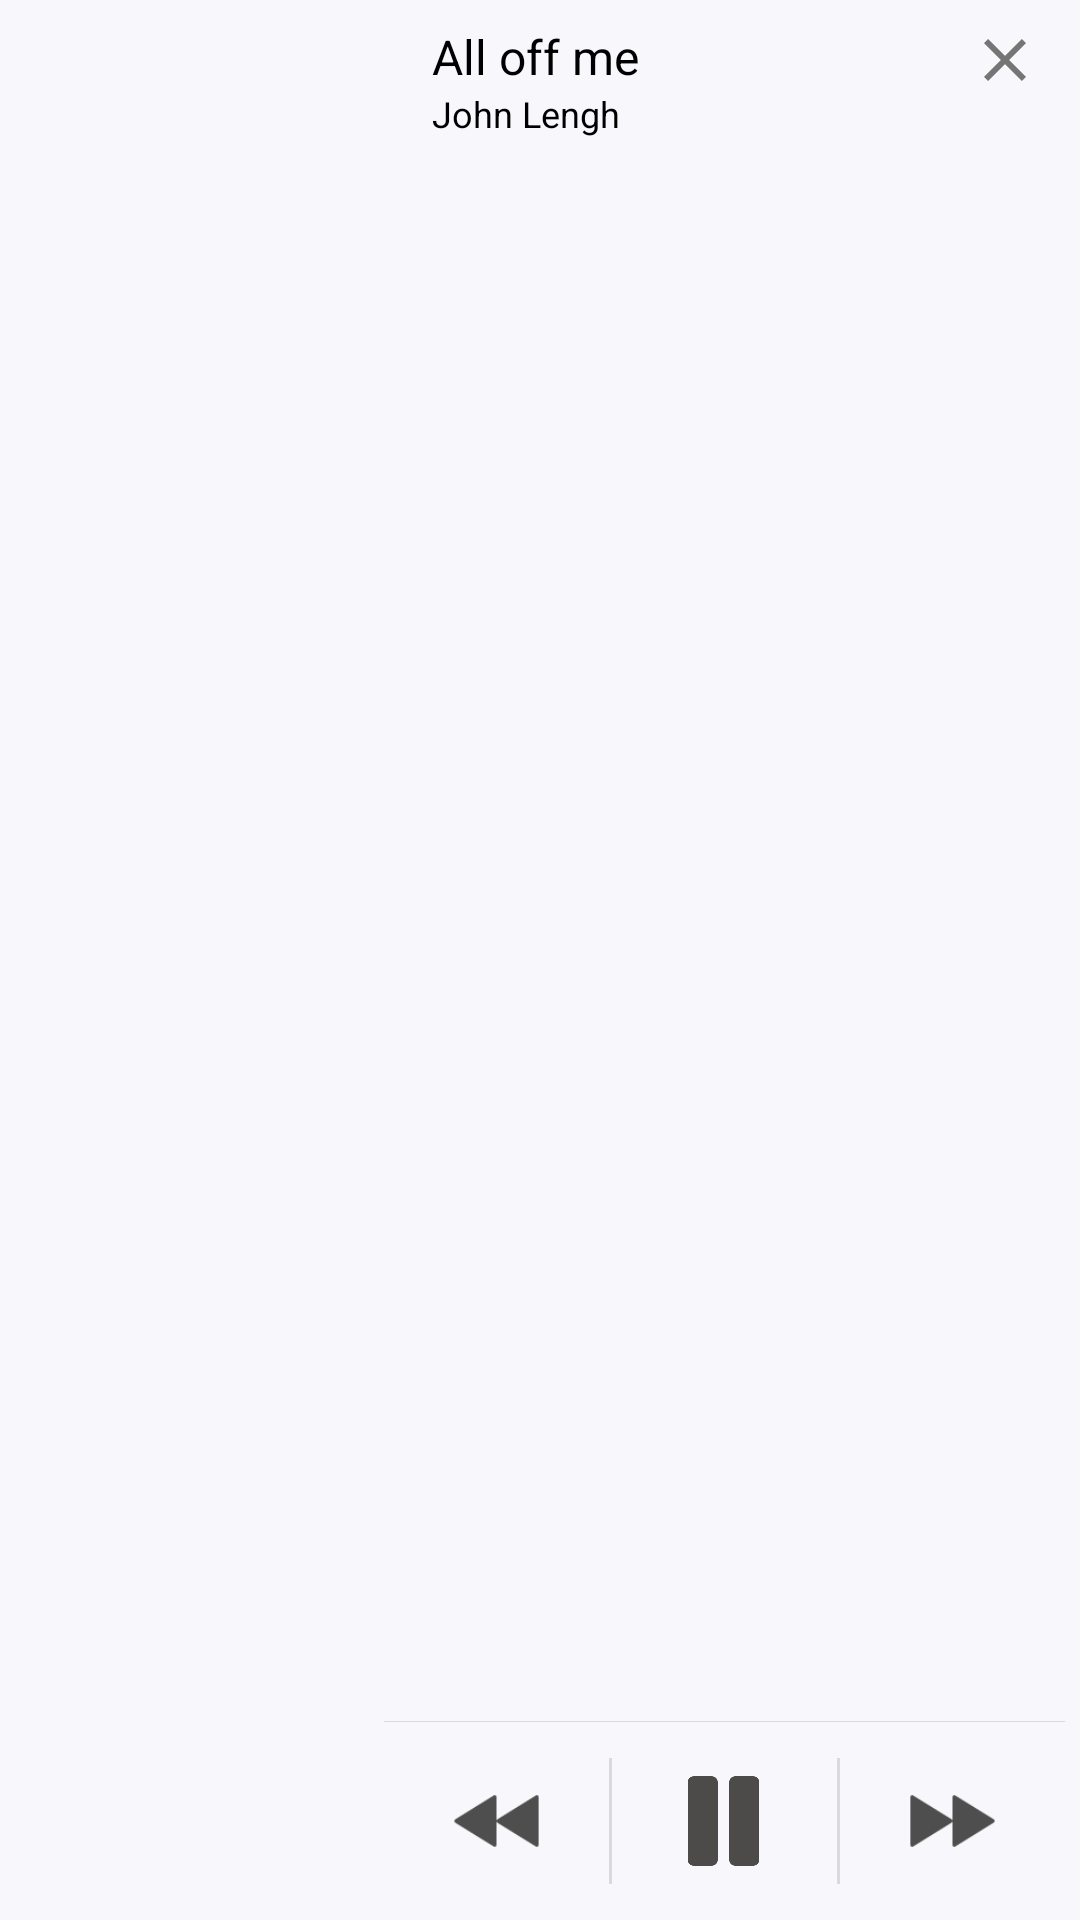

Locate icon controls on the screen. Image size 1080px×1920px, boxes as bbox=[x1, y1, x2, y2].
back: bbox=[454, 1795, 539, 1847]
close: bbox=[984, 39, 1026, 81]
next: bbox=[910, 1795, 995, 1847]
pause: bbox=[688, 1776, 759, 1866]
